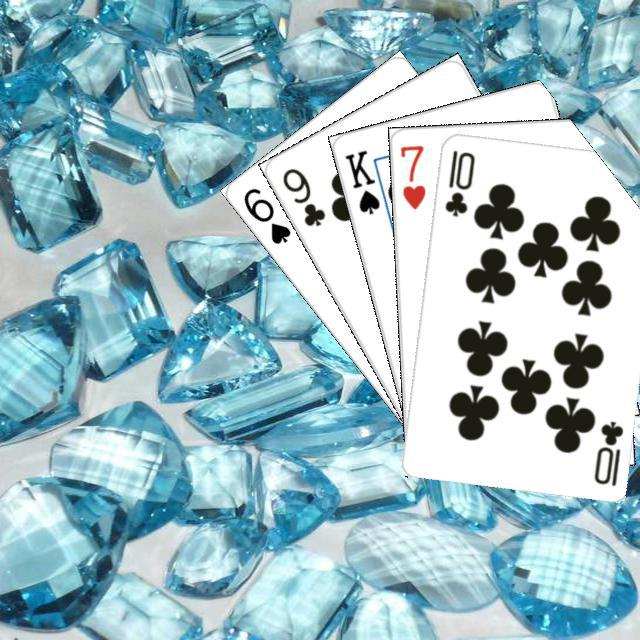10c: (439, 145, 477, 218), (589, 415, 625, 488)
6s: (238, 182, 293, 247)
7h: (395, 140, 427, 211)
9c: (277, 163, 327, 229)
Ks: (340, 145, 382, 216)
